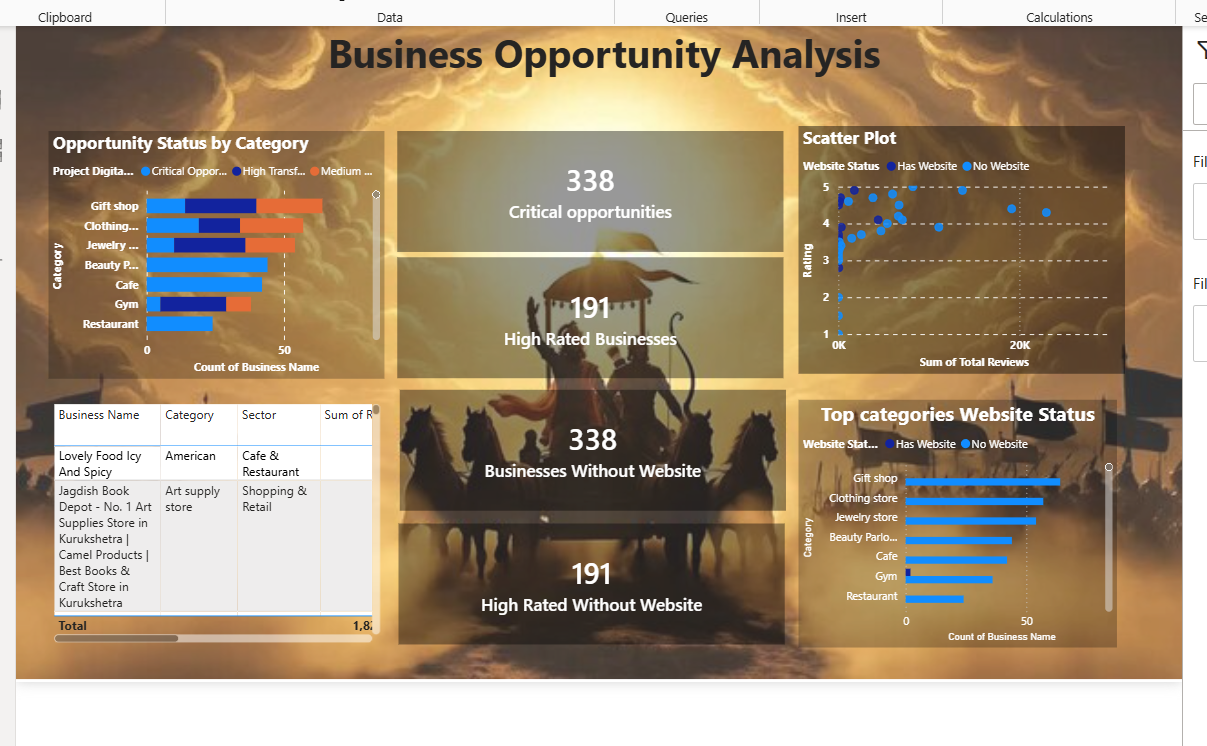

Layout of this report page (visuals, bound fields, positions):
{"tool":"powerbi","page":{"name":"Business Opportunity Analysis","canvas":[1280,720],"ordinal":2},"visuals":[{"type":"textbox","title":"Business Opportunity Analysis","box":[155.1,0,981.1,175.6],"z":0},{"type":"cardVisual","fields":{"Data":["CountNonNull(Sheet1.Project Digital Opportunity Status)"]},"box":[418.5,115.3,424,133.1],"z":1000},{"type":"clusteredBarChart","title":"Top categories Website Status ","fields":{"Category":["Sheet1.Category"],"Y":["CountNonNull(Sheet1.Business Name)"],"Series":["Sheet1.Website Status"]},"box":[859,410.3,349.9,271.7],"z":2000},{"type":"scatterChart","title":"Scatter Plot","fields":{"X":["Sum(Sheet1.Total Reviews)"],"Y":["Sheet1.Rating"],"Series":["Sheet1.Website Status"]},"box":[859,109.8,358.1,271.7],"z":3000},{"type":"barChart","title":"Opportunity Status by Category","fields":{"Category":["Sheet1.Category"],"Series":["Sheet1.Project Digital Opportunity Status"],"Y":["CountNonNull(Sheet1.Business Name)"]},"box":[35.7,115.3,369.1,271.7],"z":4000},{"type":"tableEx","title":"Top categories Website Status ","fields":{"Values":["Sheet1.Business Name","Sheet1.Category","Sheet1.Sector","Sum(Sheet1.Rating)","Sum(Sheet1.Total Reviews)","Sheet1.Phone Number","Sheet1.Website Status","Sheet1.Project Digital Opportunity Status"]},"box":[35.7,410.3,369.1,271.7],"z":5000},{"type":"cardVisual","fields":{"Data":["Sheet1.Businesses Without Website"]},"box":[421.3,399.3,424,133.1],"z":6000},{"type":"cardVisual","fields":{"Data":["Sheet1.High Rated Businesses"]},"box":[418.5,253.9,424,133.1],"z":7000},{"type":"cardVisual","fields":{"Data":["Sheet1.High Rated Without Website"]},"box":[419.9,546.1,424,133.1],"z":8000}]}

Visuals, with their boxes on the page's 1280x720 design canvas (x1, y1, x2, y2). These are canvas units, not pixel positions in the 1207x746 screenshot, which may show the page scaled, cropped or inside an application window:
"Business Opportunity Analysis" textbox: box(155, 0, 1136, 176)
cardVisual - CountNonNull(Sheet1.Project Digital Opportunity Status): box(418, 115, 842, 248)
"Top categories Website Status " clusteredBarChart: box(859, 410, 1209, 682)
"Scatter Plot" scatterChart: box(859, 110, 1217, 382)
"Opportunity Status by Category" barChart: box(36, 115, 405, 387)
"Top categories Website Status " tableEx: box(36, 410, 405, 682)
cardVisual - Sheet1.Businesses Without Website: box(421, 399, 845, 532)
cardVisual - Sheet1.High Rated Businesses: box(418, 254, 842, 387)
cardVisual - Sheet1.High Rated Without Website: box(420, 546, 844, 679)
